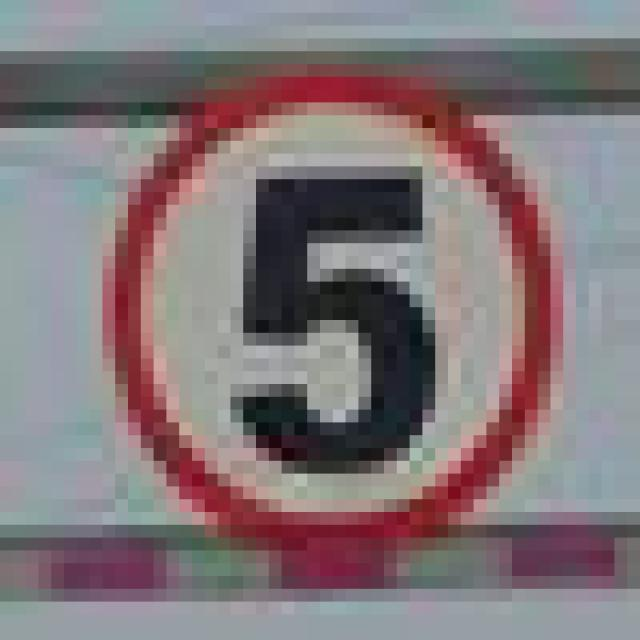speed_limit_20: (90, 51, 563, 538)
